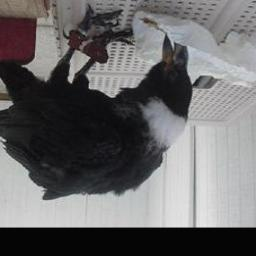Crow: (0, 4, 196, 202)
